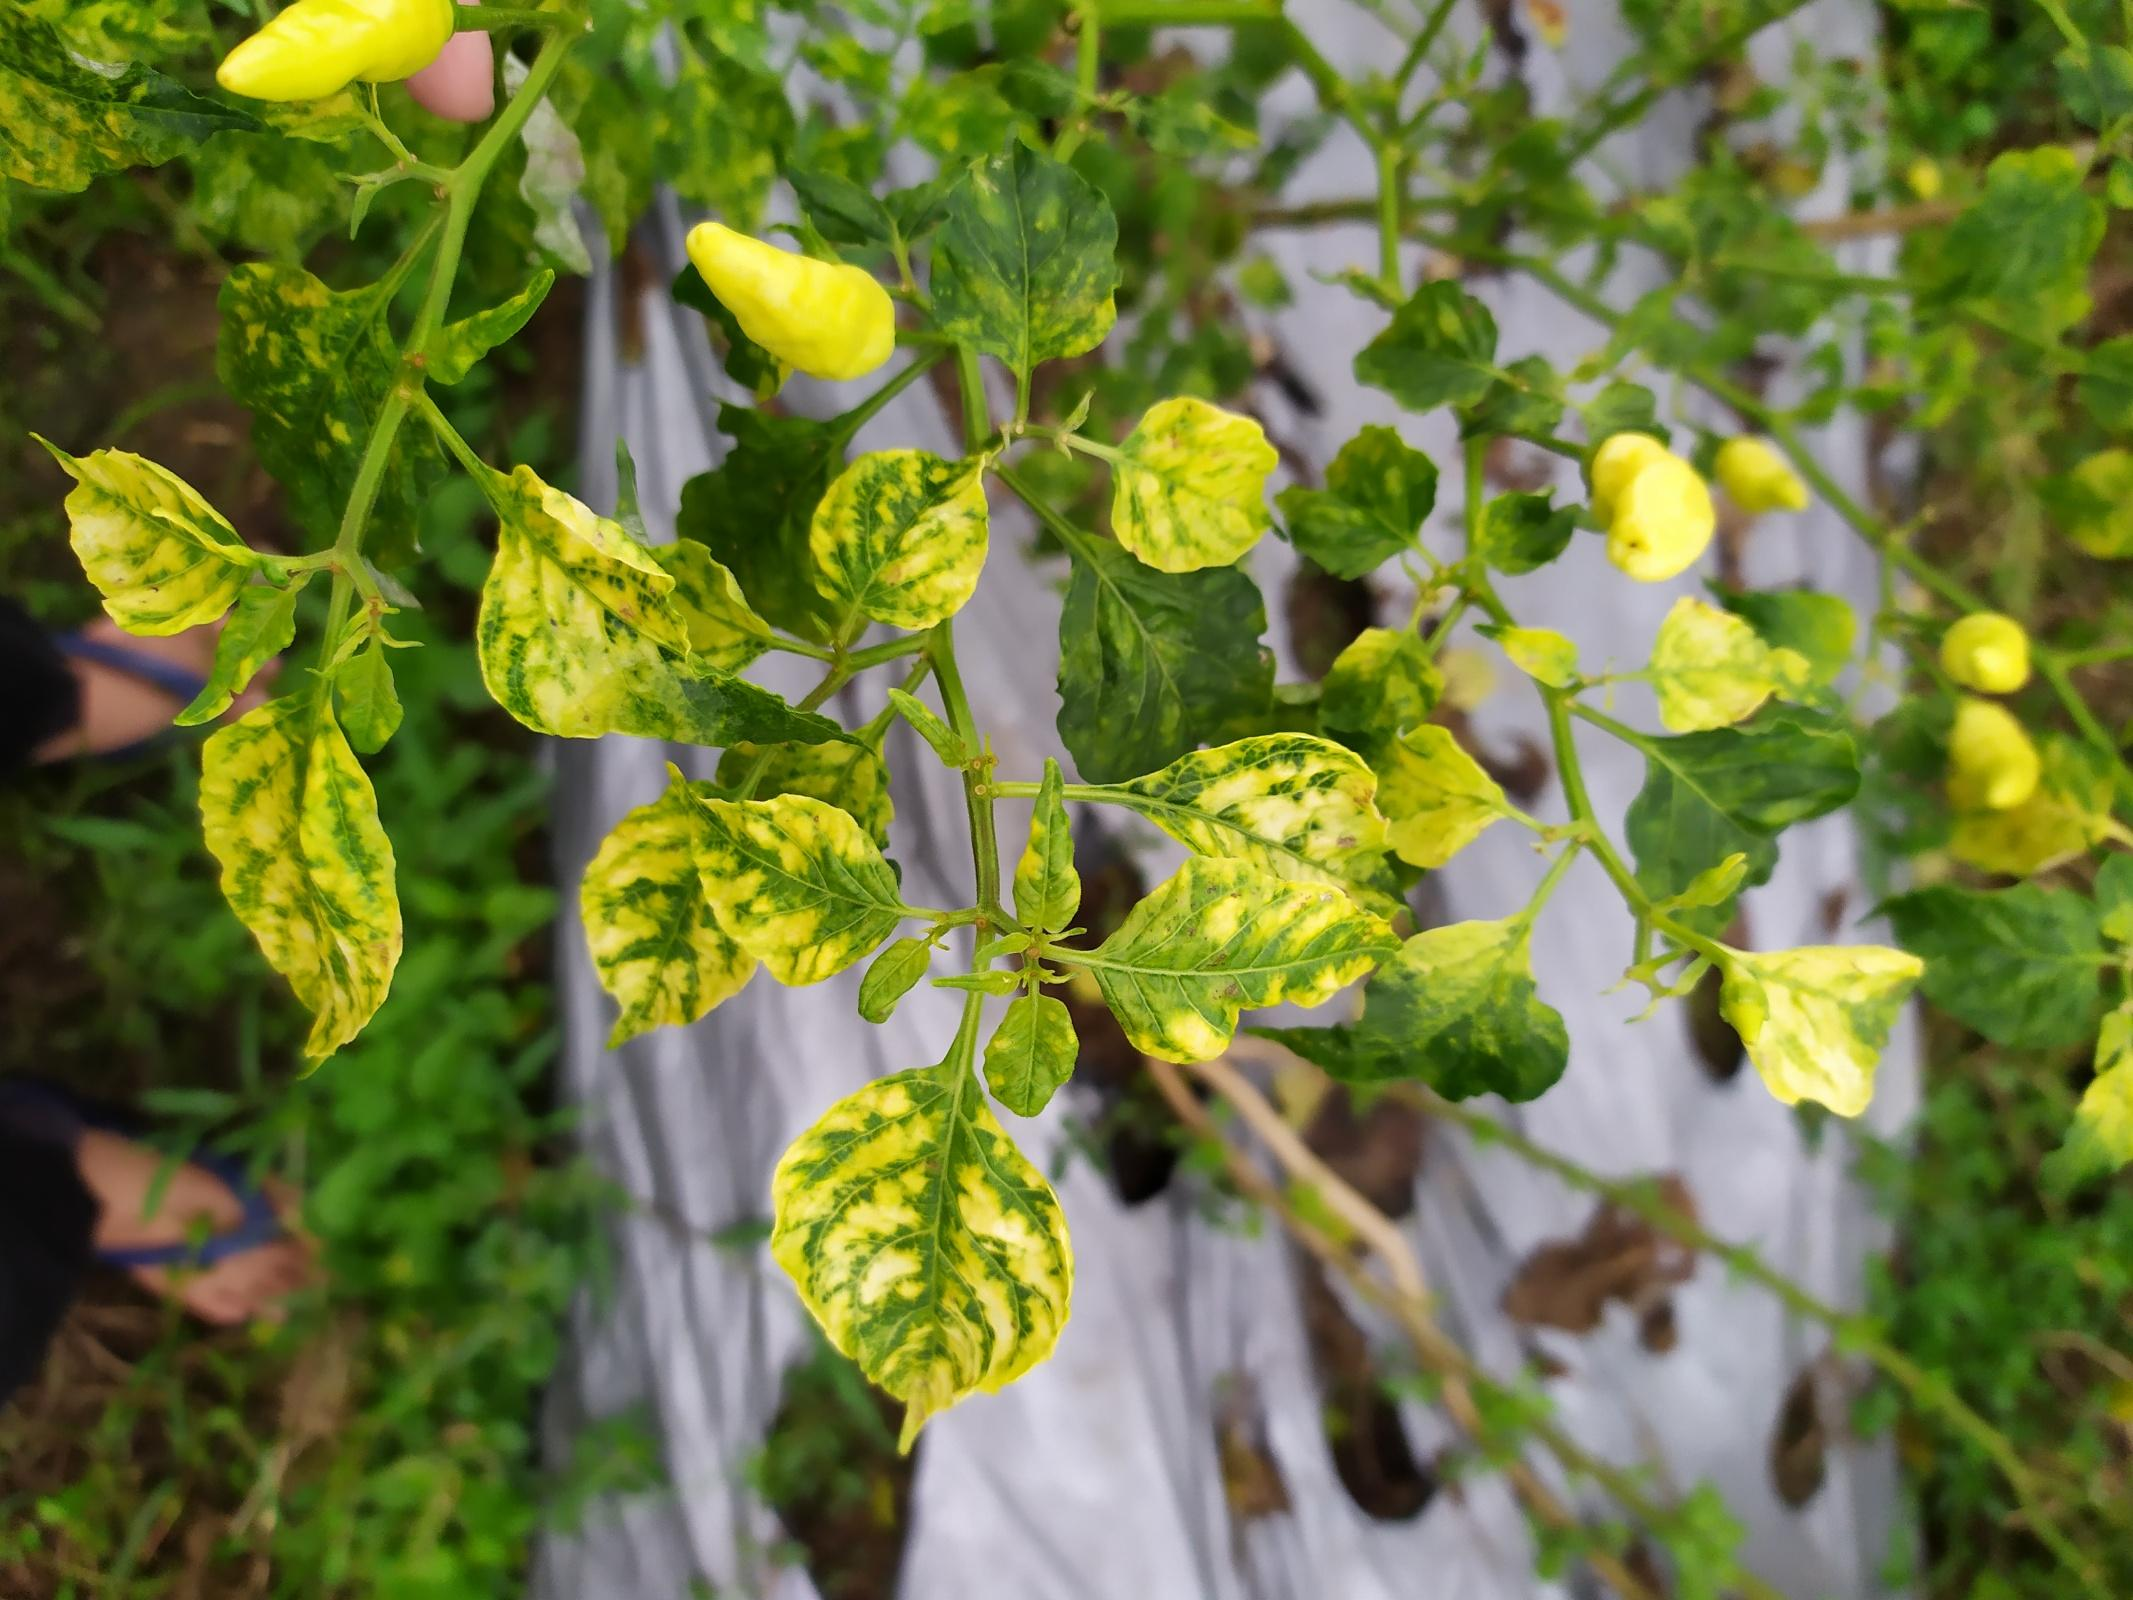cabai_normal: (684, 222, 898, 382), (217, 2, 461, 104), (1582, 429, 1716, 582), (1948, 701, 2041, 812), (1941, 612, 2030, 697), (1714, 430, 1805, 514)
